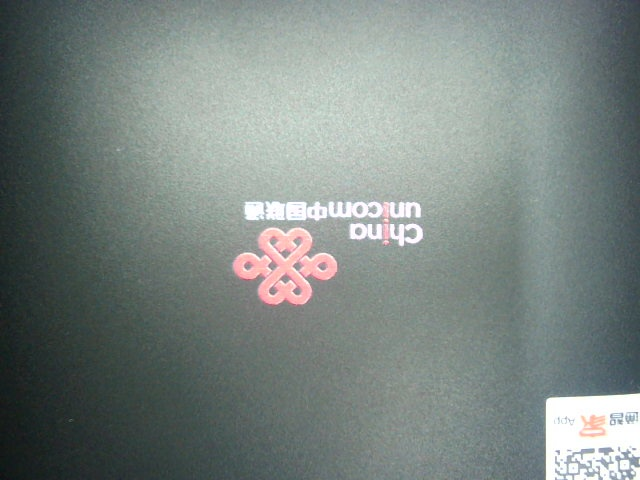AC_ChinaUnicom: (220, 186, 430, 310)
